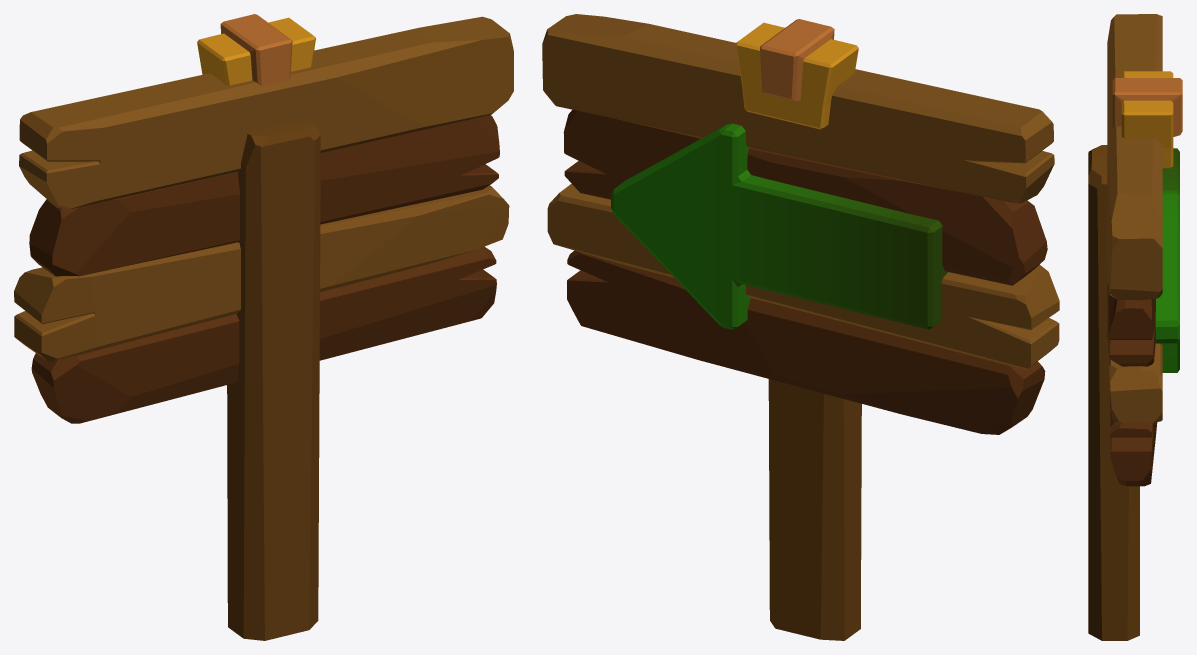
Rendered from SignPost03.fbx.
3 views of the same model, side by side, from view 1: azimuth 30°, elevation 25°; view 2: azimuth 150°, elevation 25°; view 3: azimuth 270°, elevation 25° (orthographic). The views are drawn at different scales.
Visible parts, largest first — view 1: LOD0; view 2: LOD0; view 3: LOD0.
Part boxes in pixels (x1,y1,x2,y2): LOD0: (14,14,513,640); LOD0: (542,14,1059,640); LOD0: (1088,14,1182,640).
Size of what is drawn, in the model's own units: 149 by 27.69 by 175.
